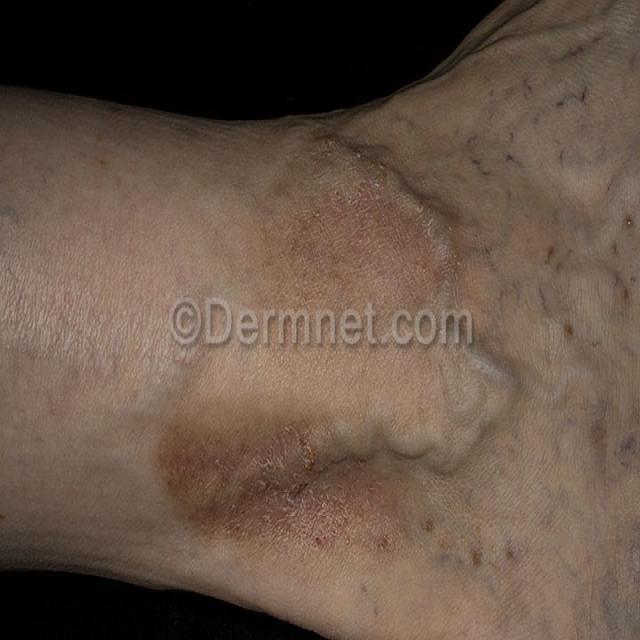Eczema: (160, 123, 527, 546)
